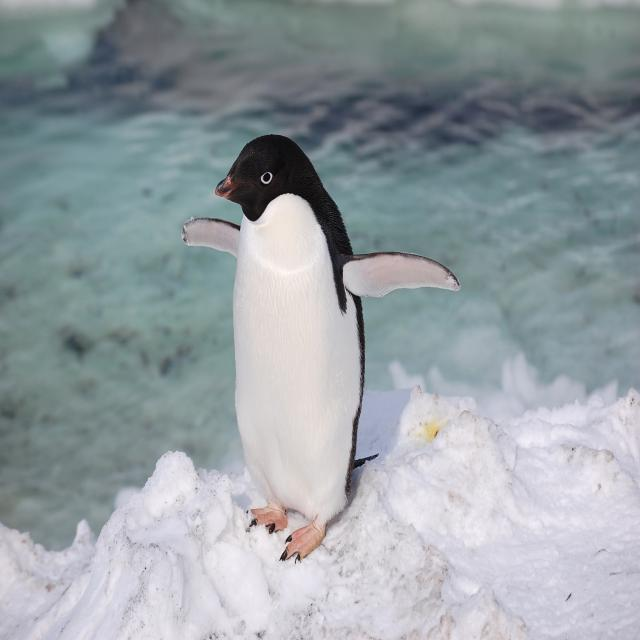Penguins: (187, 115, 400, 572)
